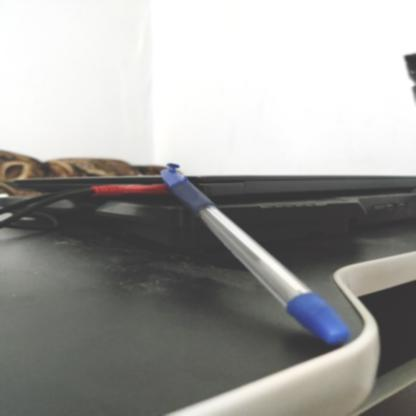Pen: (157, 160, 357, 362)
